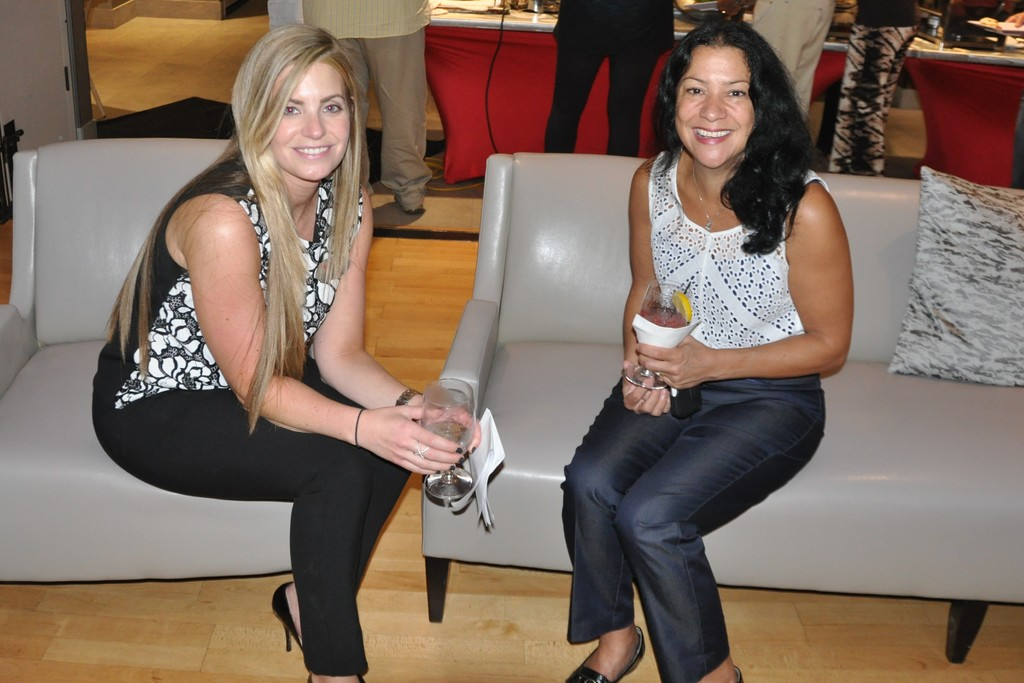Couch: (419, 153, 1023, 662)
